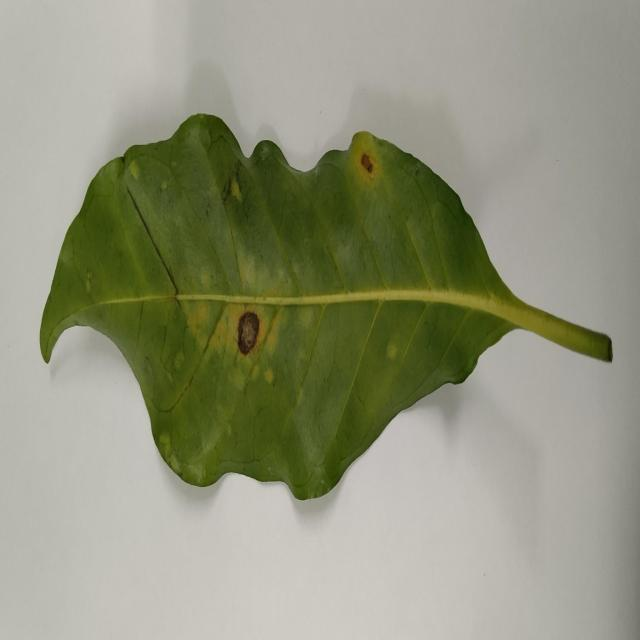Enfermedad-Mancha-de-hierro: (39, 114, 614, 505)
